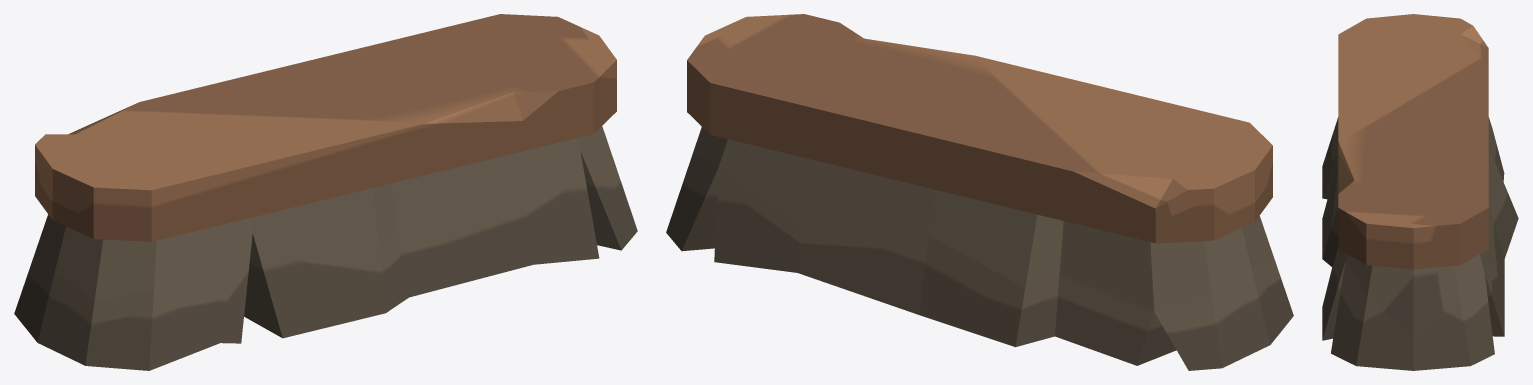
Rendered from SM_Prop_Brush_01.fbx.
3 views of the same model, side by side, from view 1: azimuth 30°, elevation 25°; view 2: azimuth 150°, elevation 25°; view 3: azimuth 270°, elevation 25° (orthographic). The views are drawn at different scales.
Visible parts, largest first — view 1: SM_Prop_Brush_01; view 2: SM_Prop_Brush_01; view 3: SM_Prop_Brush_01.
Boxes of the visible parts, left/top/right/bottom form: SM_Prop_Brush_01: left=14, top=14, right=637, bottom=370; SM_Prop_Brush_01: left=666, top=14, right=1293, bottom=370; SM_Prop_Brush_01: left=1322, top=14, right=1518, bottom=370.
Size of the model in its own units: 45.38 by 12.8 by 16.65.
